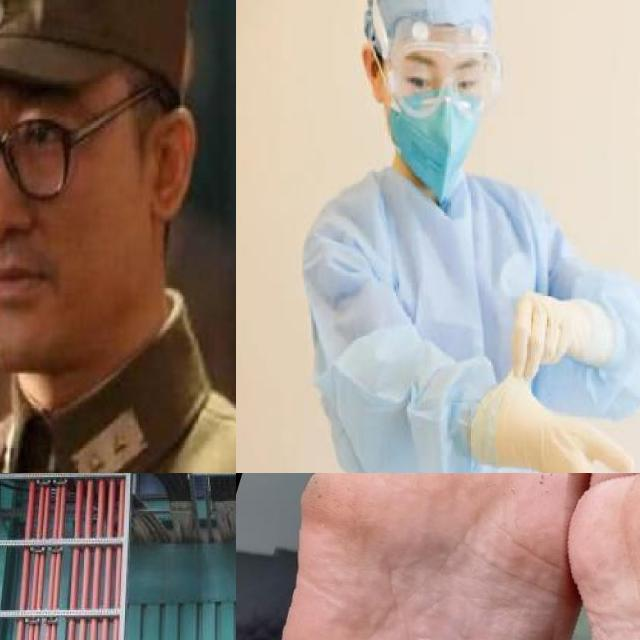Barefoots: (272, 473, 587, 640)
No_Ear-Protection: (148, 90, 203, 230)
face_mask: (387, 47, 488, 200)
face_nomask: (0, 80, 146, 376)
glasses: (382, 35, 503, 120), (0, 113, 78, 213)
hand_glove: (502, 405, 640, 473), (508, 290, 594, 380)
head_nohelmet: (0, 0, 205, 97)
person: (285, 0, 640, 473), (0, 0, 236, 473)
